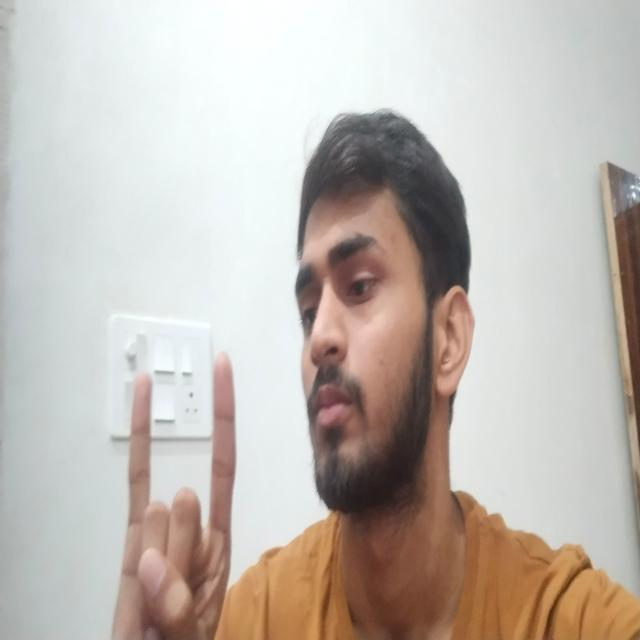iloveyou: (79, 255, 257, 640)
